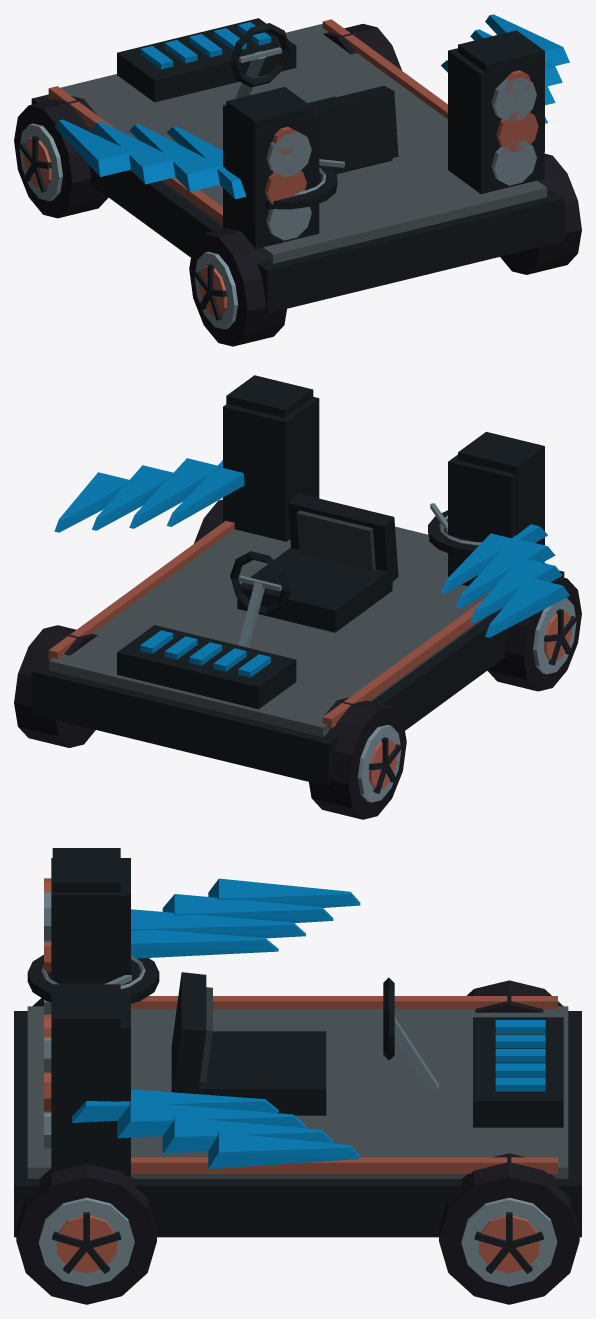
Rendered from kart.glb.
3 views of the same model, one above another, from view 1: azimuth 30°, elevation 25°; view 2: azimuth 150°, elevation 25°; view 3: azimuth 270°, elevation 25° (orthographic). The views are drawn at different scales.
Parts seen in each view (by area): view 1: identity-stage-stage-platform-and-pa-towers, identity-stage-motif-speakers, identity-stage-motif-wings-feather, identity-stage-driver-cockpit, wheel-rear-left, wheel-front-left, wheel-rear-right, identity-stage-motif-vinyl, wheel-front-right; view 2: identity-stage-stage-platform-and-pa-towers, identity-stage-driver-cockpit, identity-stage-motif-wings-feather, wheel-front-left, identity-stage-motif-speakers, wheel-rear-left, wheel-front-right, identity-stage-motif-vinyl; view 3: identity-stage-stage-platform-and-pa-towers, identity-stage-motif-wings-feather, wheel-front-right, wheel-rear-right, identity-stage-driver-cockpit, identity-stage-motif-speakers, identity-stage-motif-vinyl, wheel-front-left.
Boxes of the visible parts, x1,y1,x2,y2 form: identity-stage-stage-platform-and-pa-towers: (31,18,564,313); identity-stage-motif-speakers: (226,30,544,222); identity-stage-motif-wings-feather: (54,14,569,199); identity-stage-driver-cockpit: (230,23,398,174); wheel-rear-left: (189,228,286,346); wheel-front-left: (14,96,108,218); wheel-rear-right: (500,153,581,274); identity-stage-motif-vinyl: (238,159,344,209); wheel-front-right: (323,24,402,70); identity-stage-stage-platform-and-pa-towers: (31,397,564,786); identity-stage-driver-cockpit: (230,493,398,647); identity-stage-motif-wings-feather: (54,458,569,637); wheel-front-left: (309,697,406,819); identity-stage-motif-speakers: (226,375,544,545); wheel-rear-left: (487,577,581,691); wheel-front-right: (14,625,97,747); identity-stage-motif-vinyl: (428,503,481,557); identity-stage-stage-platform-and-pa-towers: (14,858,581,1237); identity-stage-motif-wings-feather: (72,878,360,1168); wheel-front-right: (439,1153,579,1304); wheel-rear-right: (16,1163,156,1304); identity-stage-driver-cockpit: (171,972,438,1115); identity-stage-motif-speakers: (44,848,120,1140); identity-stage-motif-vinyl: (27,954,159,1003); wheel-front-left: (466,980,563,1012).
Bounding box in the file's own units: 2.88 × 1.33 × 2.5.
